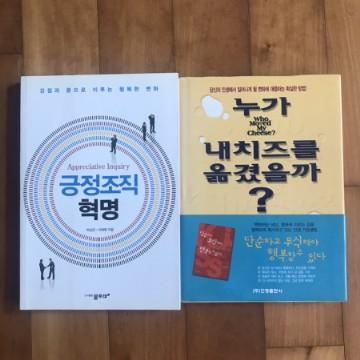book: (20, 74, 179, 312)
